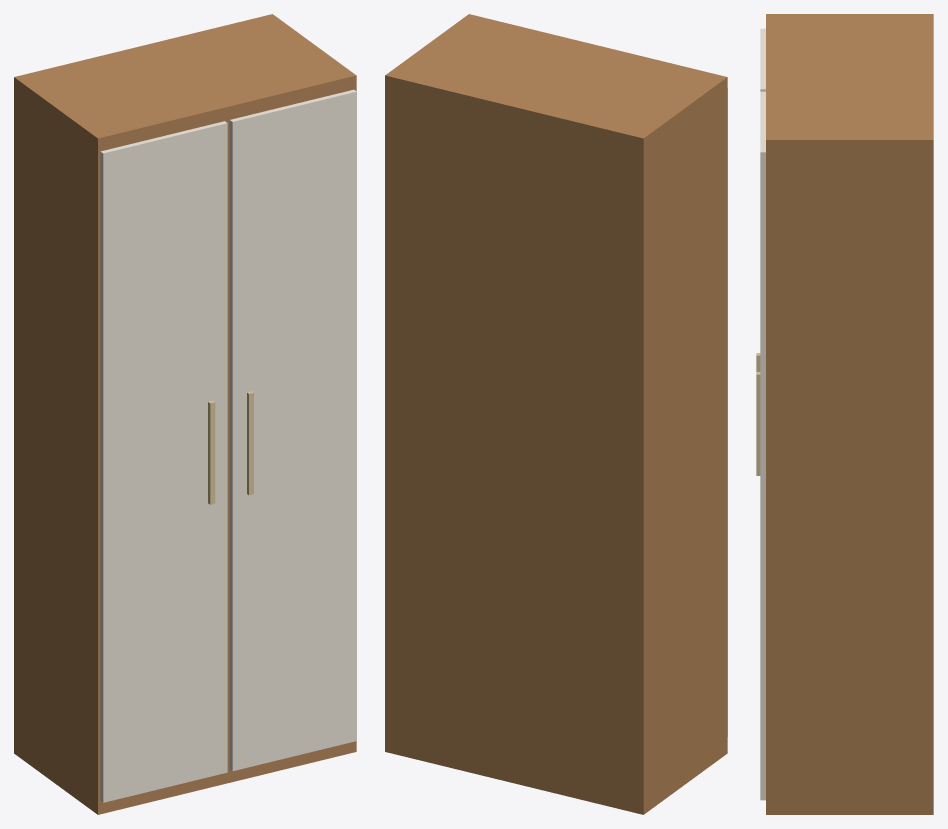
The model's file is armario_alto_80.obj.
3 views of the same model, side by side, from view 1: azimuth 30°, elevation 25°; view 2: azimuth 150°, elevation 25°; view 3: azimuth 270°, elevation 25° (orthographic).
Parts seen in each view (by area): view 1: armario_alto_80; view 2: armario_alto_80; view 3: armario_alto_80.
Boxes of the visible parts, x1=… form: armario_alto_80: x1=14, y1=14, x2=356, y2=814; armario_alto_80: x1=385, y1=14, x2=727, y2=814; armario_alto_80: x1=756, y1=14, x2=933, y2=814.
Size of the model in its own units: 0.8 by 2 by 0.476.
